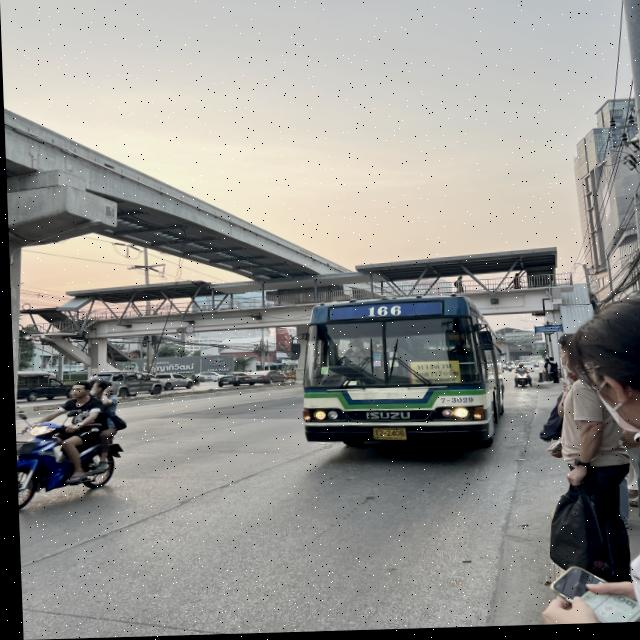BMTA-bus: (295, 299, 500, 453)
Bus Line Number: (357, 305, 406, 321)
Bus Side Number: (435, 396, 475, 408)
Destination Sign: (408, 363, 457, 387)
